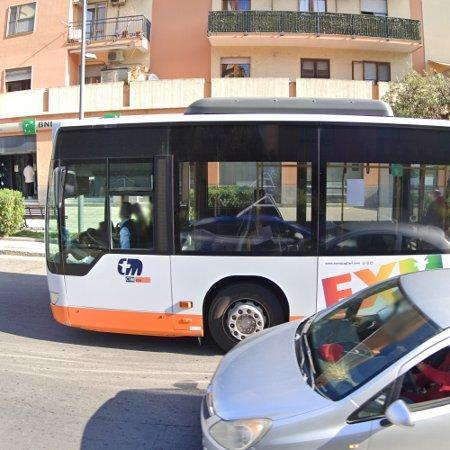buses: (45, 99, 450, 350)
